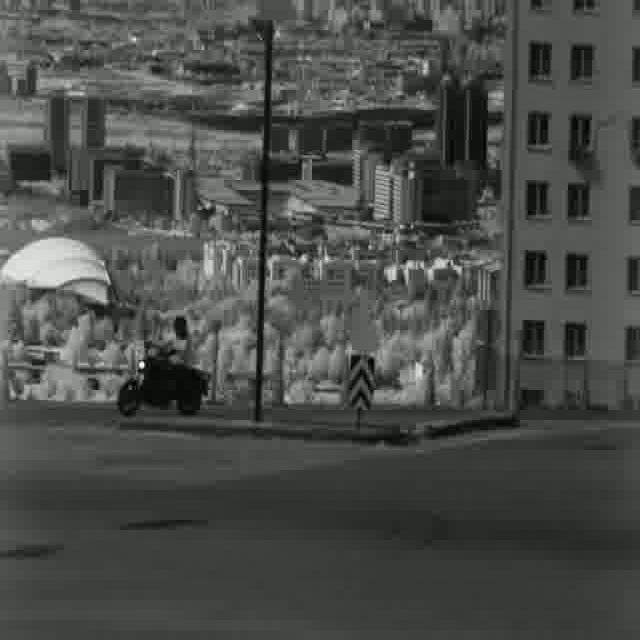Motorcycle: (118, 310, 209, 420)
